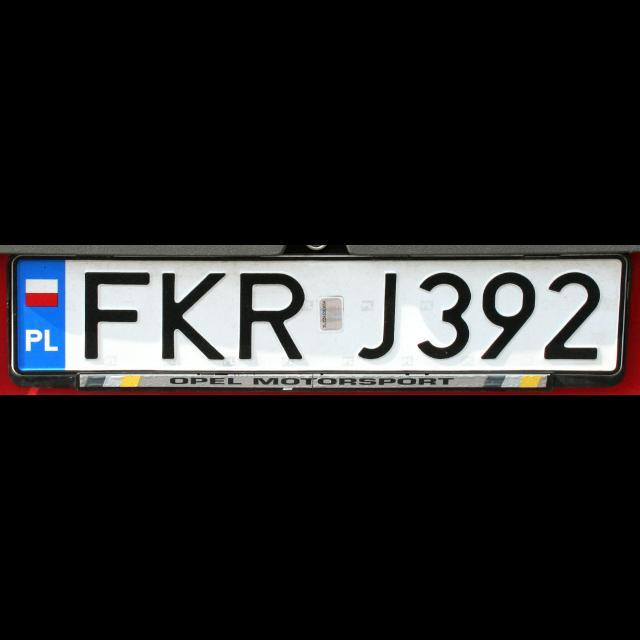license-plates: (11, 256, 628, 389)
